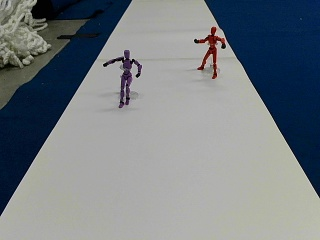pedestrian: (102, 50, 142, 106), (194, 26, 226, 77)
